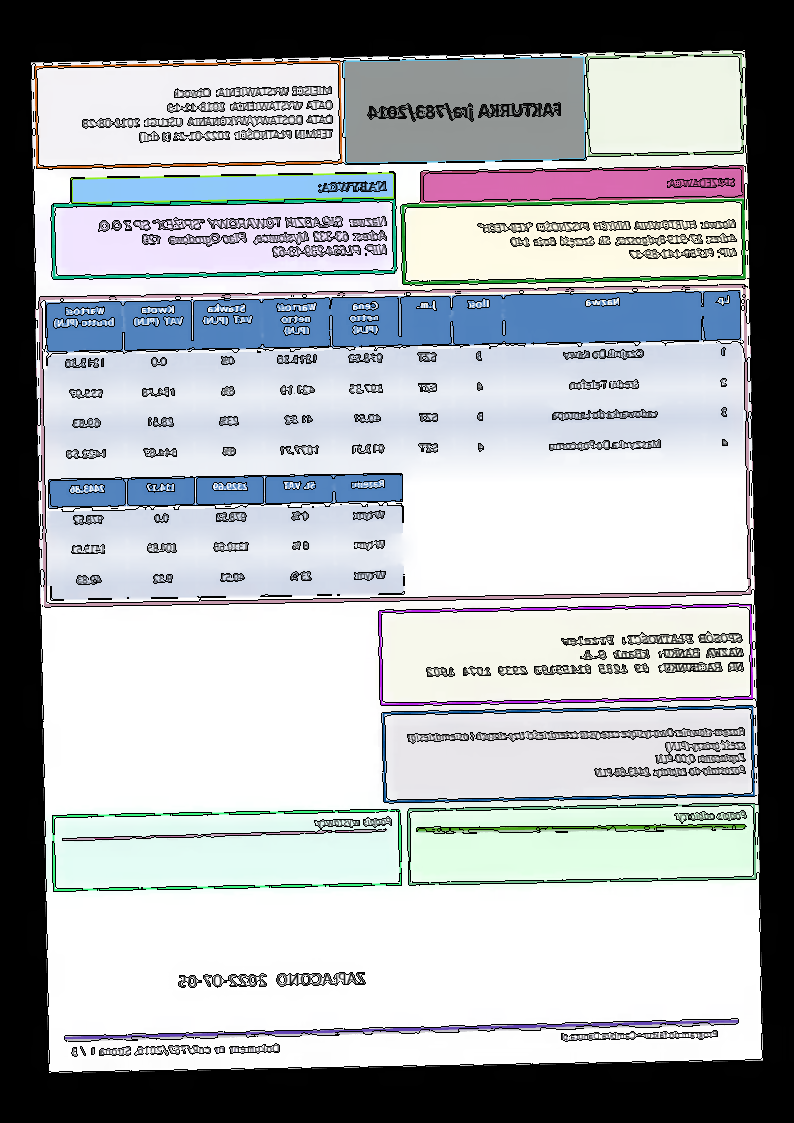Table: (45, 288, 745, 475), (49, 471, 406, 600)
TextBox: (404, 723, 748, 784), (424, 628, 745, 681), (78, 81, 336, 146), (97, 211, 391, 266), (477, 215, 739, 267), (365, 98, 566, 123), (178, 968, 368, 991), (70, 1040, 281, 1059), (558, 1025, 720, 1043), (313, 813, 395, 832), (666, 173, 740, 192), (674, 806, 748, 824), (317, 178, 390, 195)
